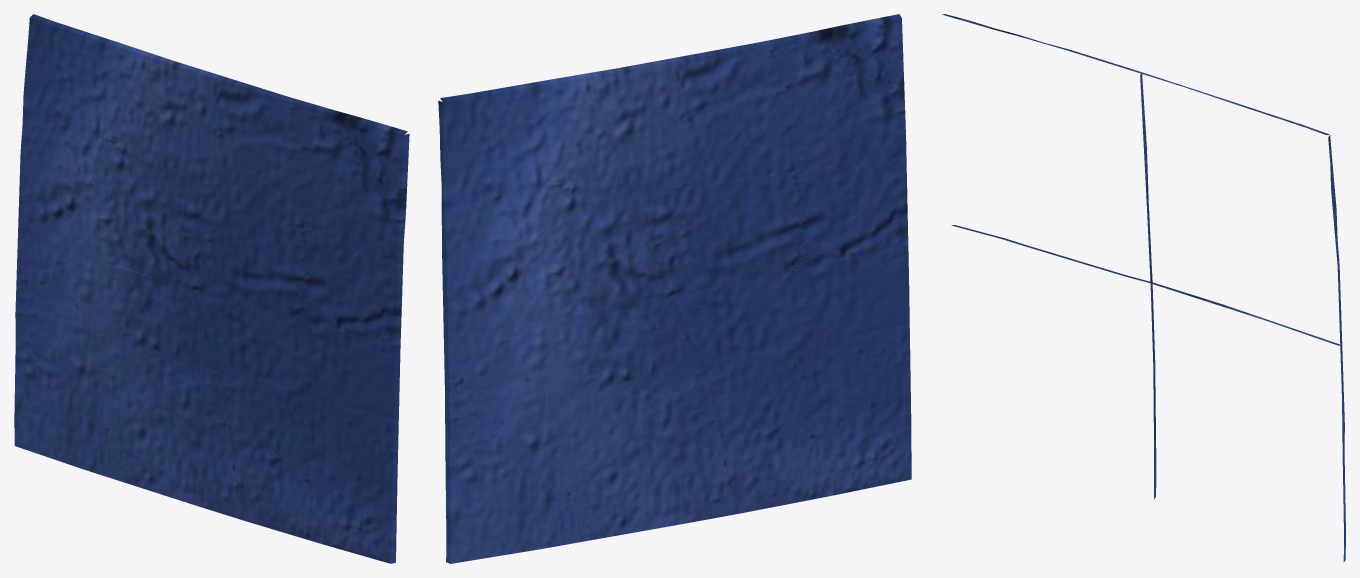
3 views of the same model, side by side, from view 1: azimuth 90°, elevation 25°; view 2: azimuth 150°, elevation 25°; view 3: azimuth 270°, elevation 25° (orthographic). The views are drawn at different scales.
Size of the model in its own units: 404701 by 628194 by 529393.
1 material, 1 textured.
